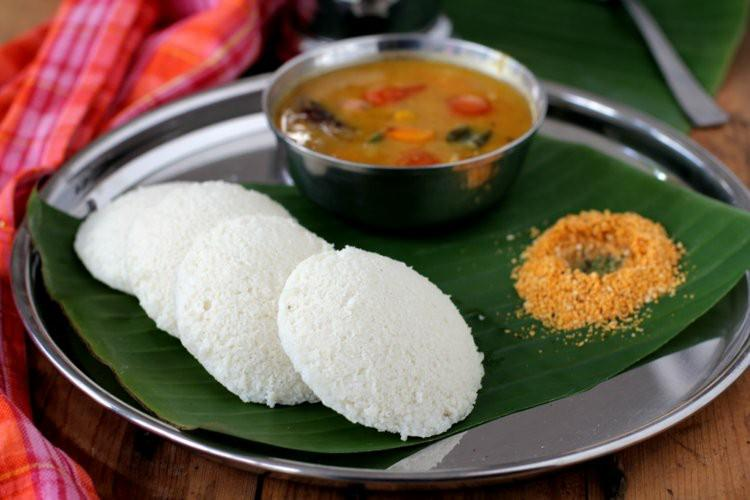Idli: (278, 250, 483, 437), (177, 214, 329, 412), (134, 181, 295, 325), (72, 181, 197, 295)
